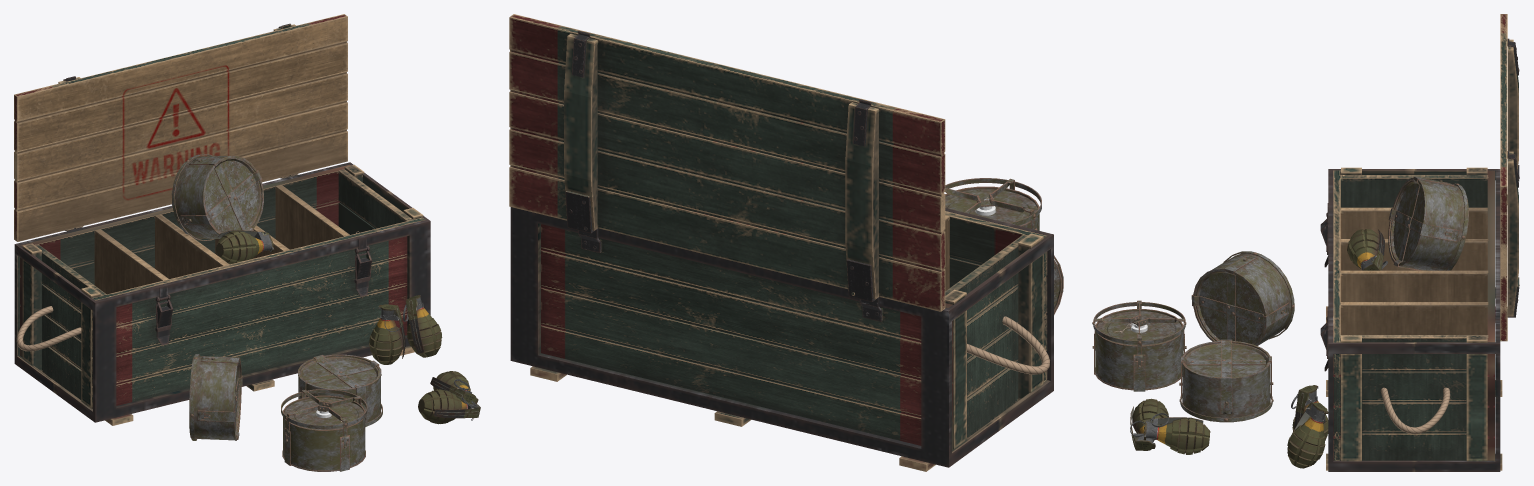
File: crate_gameasset.glb
The picture shows the model from 3 angles, left to right: view 1: azimuth 30°, elevation 25°; view 2: azimuth 150°, elevation 25°; view 3: azimuth 270°, elevation 25°; orthographic projection. The views are drawn at different scales.
Parts seen in each view (by area): view 1: Cube.016, Cube, Cube.009, Cylinder (×3), Cylinder.012, Cylinder.021 (×4), Cube.004, Cube.005, Cube.008, Cube.006, Cylinder.007 (×3), Cube.012 (+4 smaller); view 2: Cube.016, Cube, Cube.009, Cube.013, Cube.004, Cylinder.012, Cylinder.002, BezierCurve, Cylinder.008, Cylinder.001, Cube.011, Cylinder.013; view 3: Cube, Cylinder (×3), Cube.009, Cylinder.012, Cube.004, Cube.008, Cube.007, Cylinder.021 (×4), Cube.013, Cube.016, Cylinder.009 (×3), Cylinder.007 (×3) (+7 smaller).
Part boxes in pixels (left/top/right/bottom): Cube.016: left=14, top=14, right=347, bottom=241; Cube: left=20, top=165, right=425, bottom=408; Cube.009: left=14, top=162, right=430, bottom=422; Cylinder (×3): left=175, top=155, right=381, bottom=440; Cylinder.012: left=282, top=395, right=365, bottom=471; Cylinder.021 (×4): left=216, top=230, right=466, bottom=424; Cube.004: left=22, top=164, right=423, bottom=408; Cube.005: left=94, top=229, right=168, bottom=294; Cube.008: left=275, top=184, right=349, bottom=249; Cube.006: left=154, top=214, right=229, bottom=278; Cylinder.007 (×3): left=180, top=170, right=365, bottom=422; Cube.012: left=155, top=237, right=372, bottom=345; Cube.016: left=509, top=14, right=945, bottom=311; Cube: left=541, top=211, right=1047, bottom=449; Cube.009: left=510, top=207, right=1053, bottom=467; Cube.013: left=564, top=34, right=878, bottom=299; Cube.004: left=945, top=233, right=1043, bottom=449; Cylinder.012: left=945, top=186, right=1039, bottom=230; Cylinder.002: left=565, top=191, right=878, bottom=301; BezierCurve: left=967, top=316, right=1049, bottom=374; Cylinder.008: left=572, top=31, right=871, bottom=146; Cylinder.001: left=578, top=228, right=882, bottom=321; Cube.011: left=530, top=366, right=935, bottom=471; Cylinder.013: left=945, top=178, right=1041, bottom=225; Cube: left=1333, top=170, right=1494, bottom=460; Cylinder (×3): left=1182, top=177, right=1468, bottom=422; Cube.009: left=1328, top=169, right=1500, bottom=471; Cylinder.012: left=1094, top=309, right=1183, bottom=390; Cube.004: left=1341, top=167, right=1487, bottom=461; Cube.008: left=1340, top=302, right=1488, bottom=334; Cube.007: left=1340, top=270, right=1488, bottom=301; Cylinder.021 (×4): left=1132, top=228, right=1379, bottom=468; Cube.013: left=1508, top=39, right=1518, bottom=316; Cube.016: left=1500, top=14, right=1507, bottom=341; Cylinder.009 (×3): left=1220, top=176, right=1453, bottom=414; Cylinder.007 (×3): left=1181, top=208, right=1459, bottom=397.
Bounding box in the file's own units: 0.1288 × 0.0836 × 0.1098.
5 materials, 4 textured.
